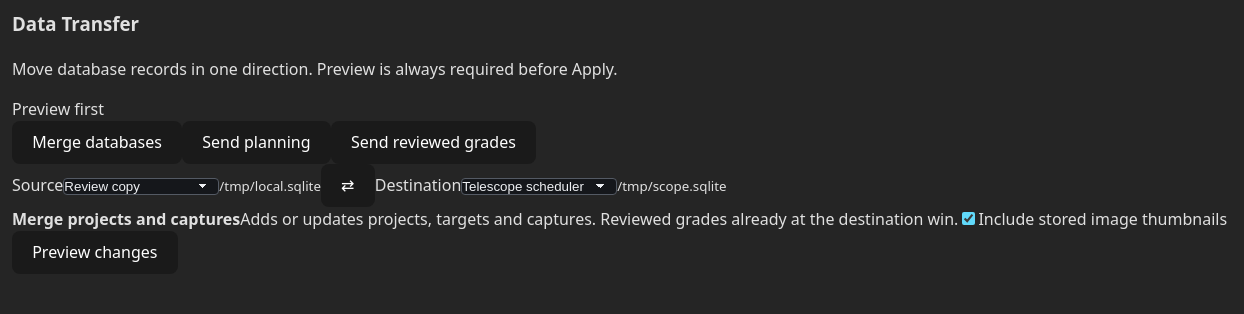
Test: SchedulerSyncControls › stops a preview whose inputs changed and ignores its late reply
Click the button "Send planning": (256, 142) [182,120,331,164]
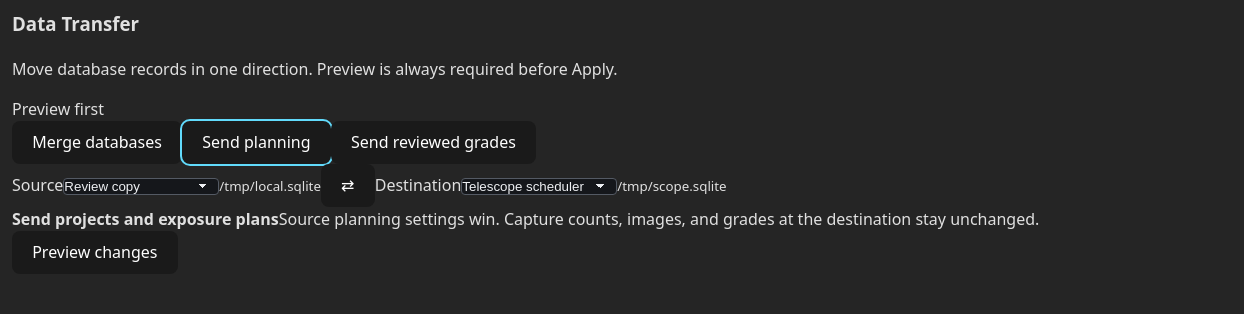
Click the button "Preview changes": (95, 252) [12,231,178,274]
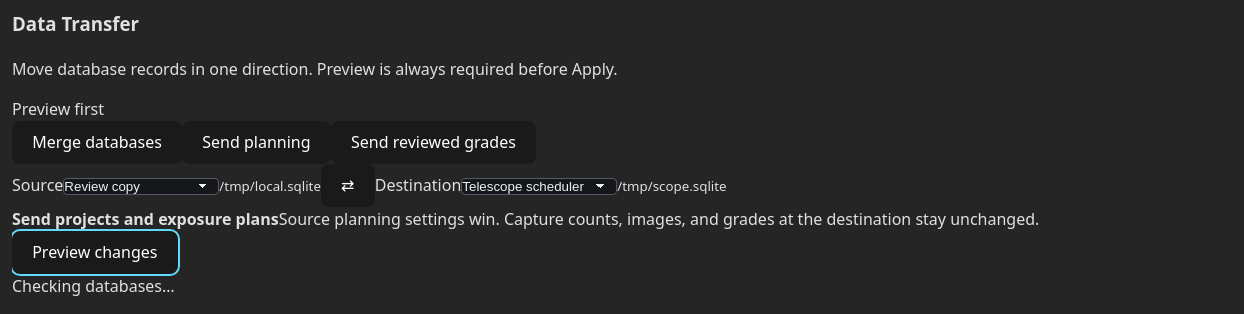
Expected: the text "Checking databases…" is shown, [12,275,175,297]
Click the button "Send reviewed grades": (433, 142) [331,120,536,164]
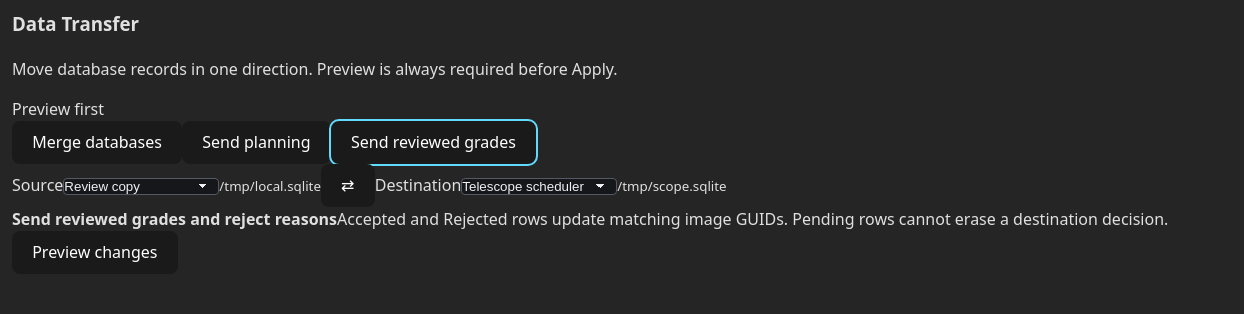
Expected: the text "Checking databases…" is gone
